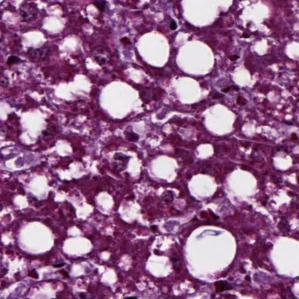steatosis: (101, 83, 140, 120), (135, 29, 170, 68), (177, 43, 217, 73), (200, 106, 237, 136)
